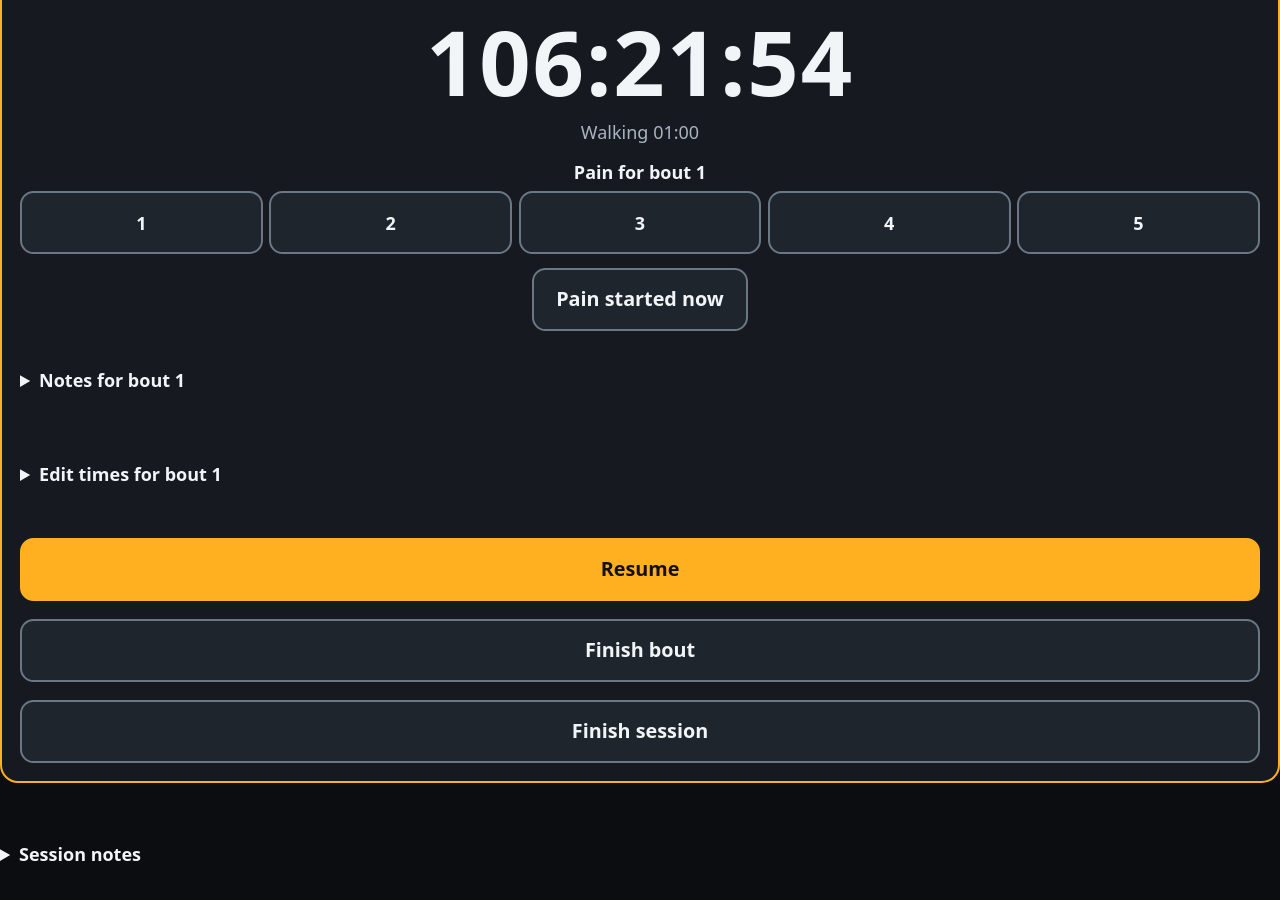
PAD walking controls › rejects a stale Retry after another tab changed the paused interval
(page scrolled)
Click the button "Finish bout".
click(640, 650)  # box [20,619,1260,682]
(page scrolled)
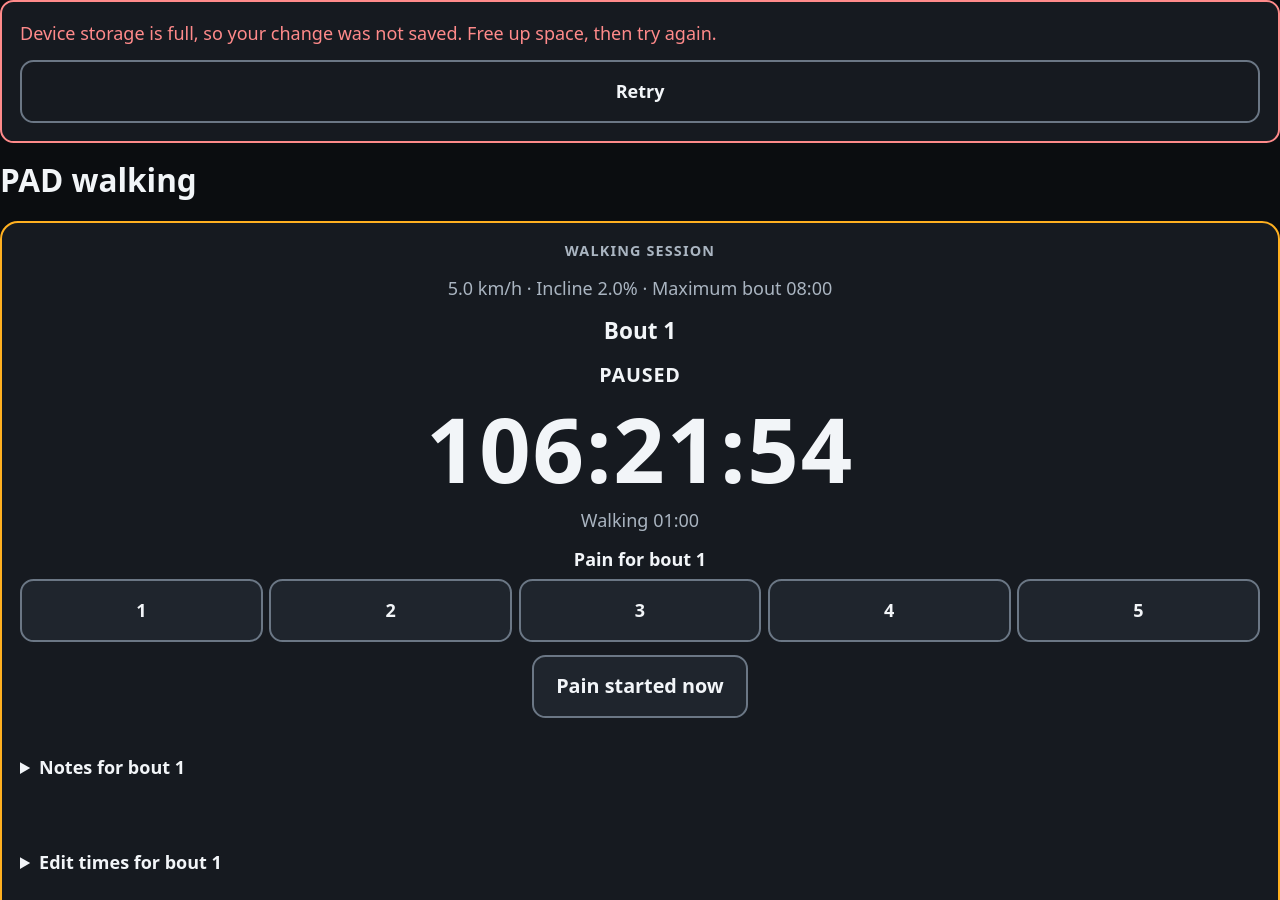
Expected: the button "Retry" is shown
Click the button "Retry".
click(640, 91)  # box [20,60,1260,123]
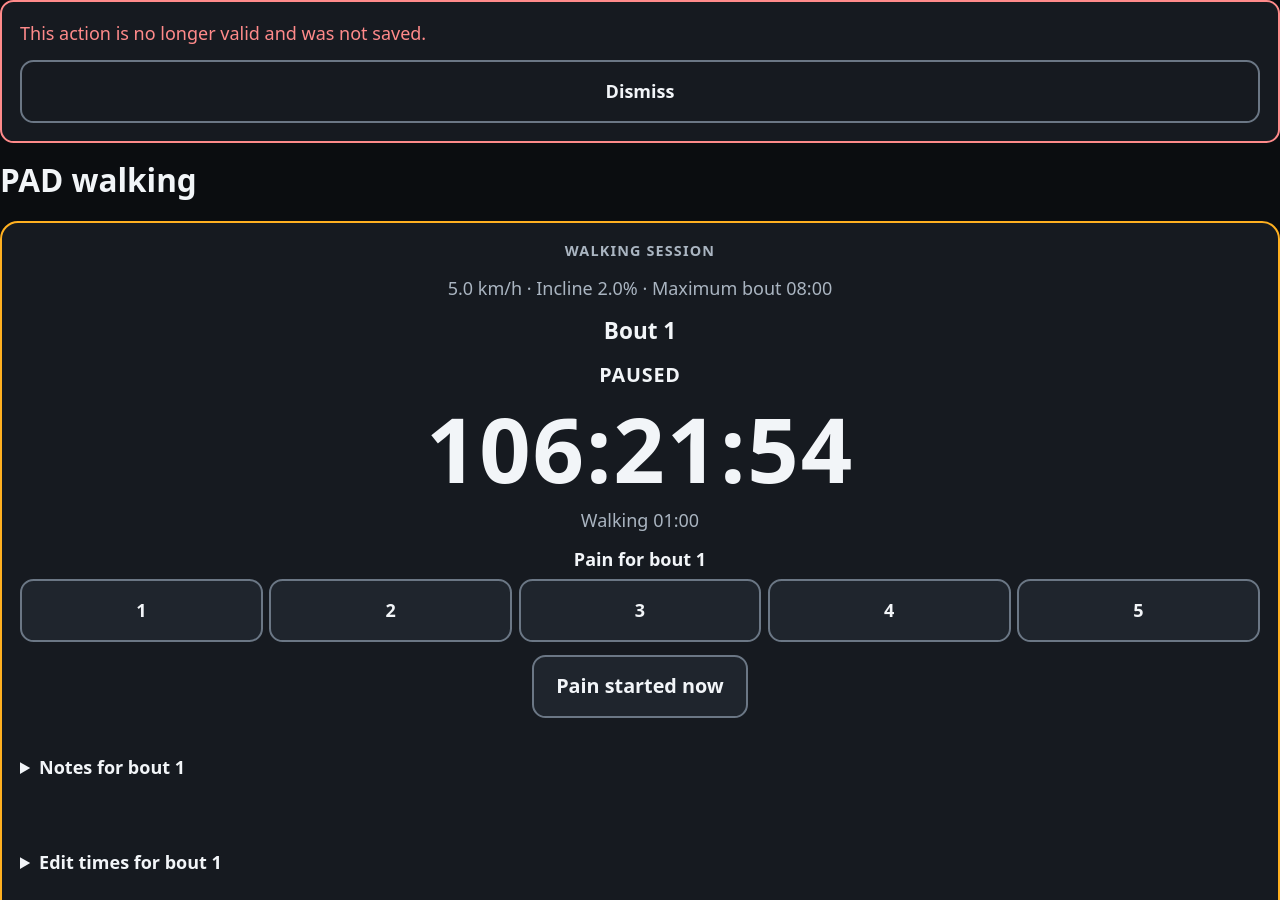
Expected: the message "This action is no longer valid and was not saved. Dismiss" is shown, [0,0,1279,143]
Expected: the button "Retry" is gone
